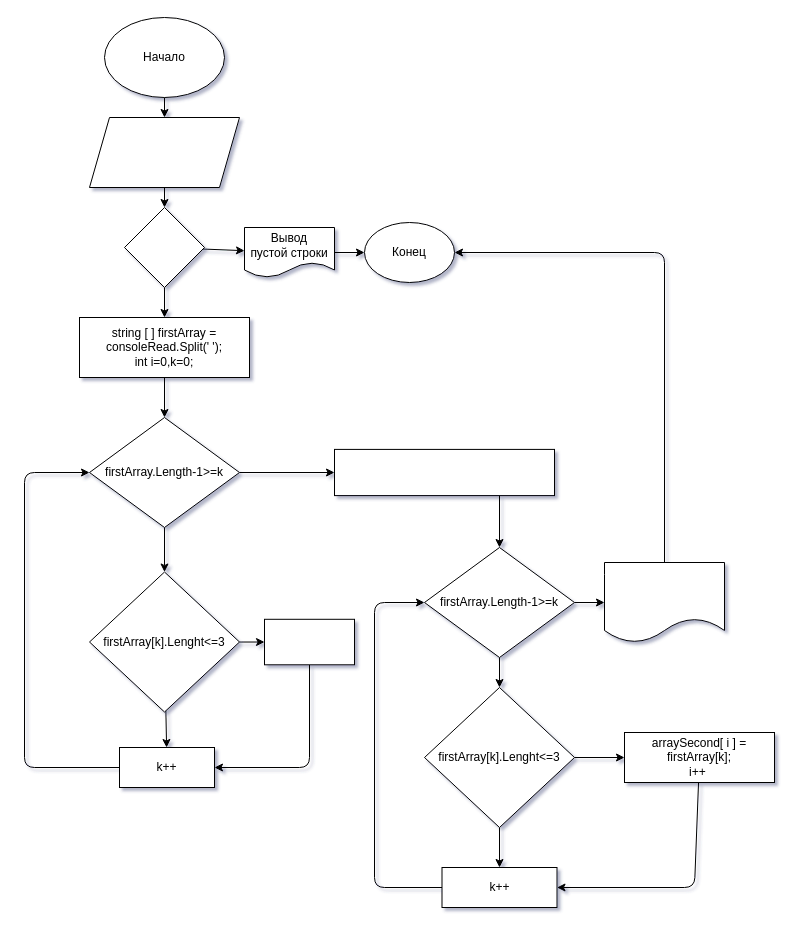
Some shapes in this 798 by 931 pixel diagram are drawn without their labels. Here are the shapes that lost their labels. From the top down, the centre of each, then its label:
At (164,152): "Ввод пользователем".
At (164,247): "Пустая строка".
At (444,472): "String [ ] arraySecond = new string [ i ]; i=0; k=0;".
At (664,602): "Вывод secondArray".
At (309,641): "i++".
